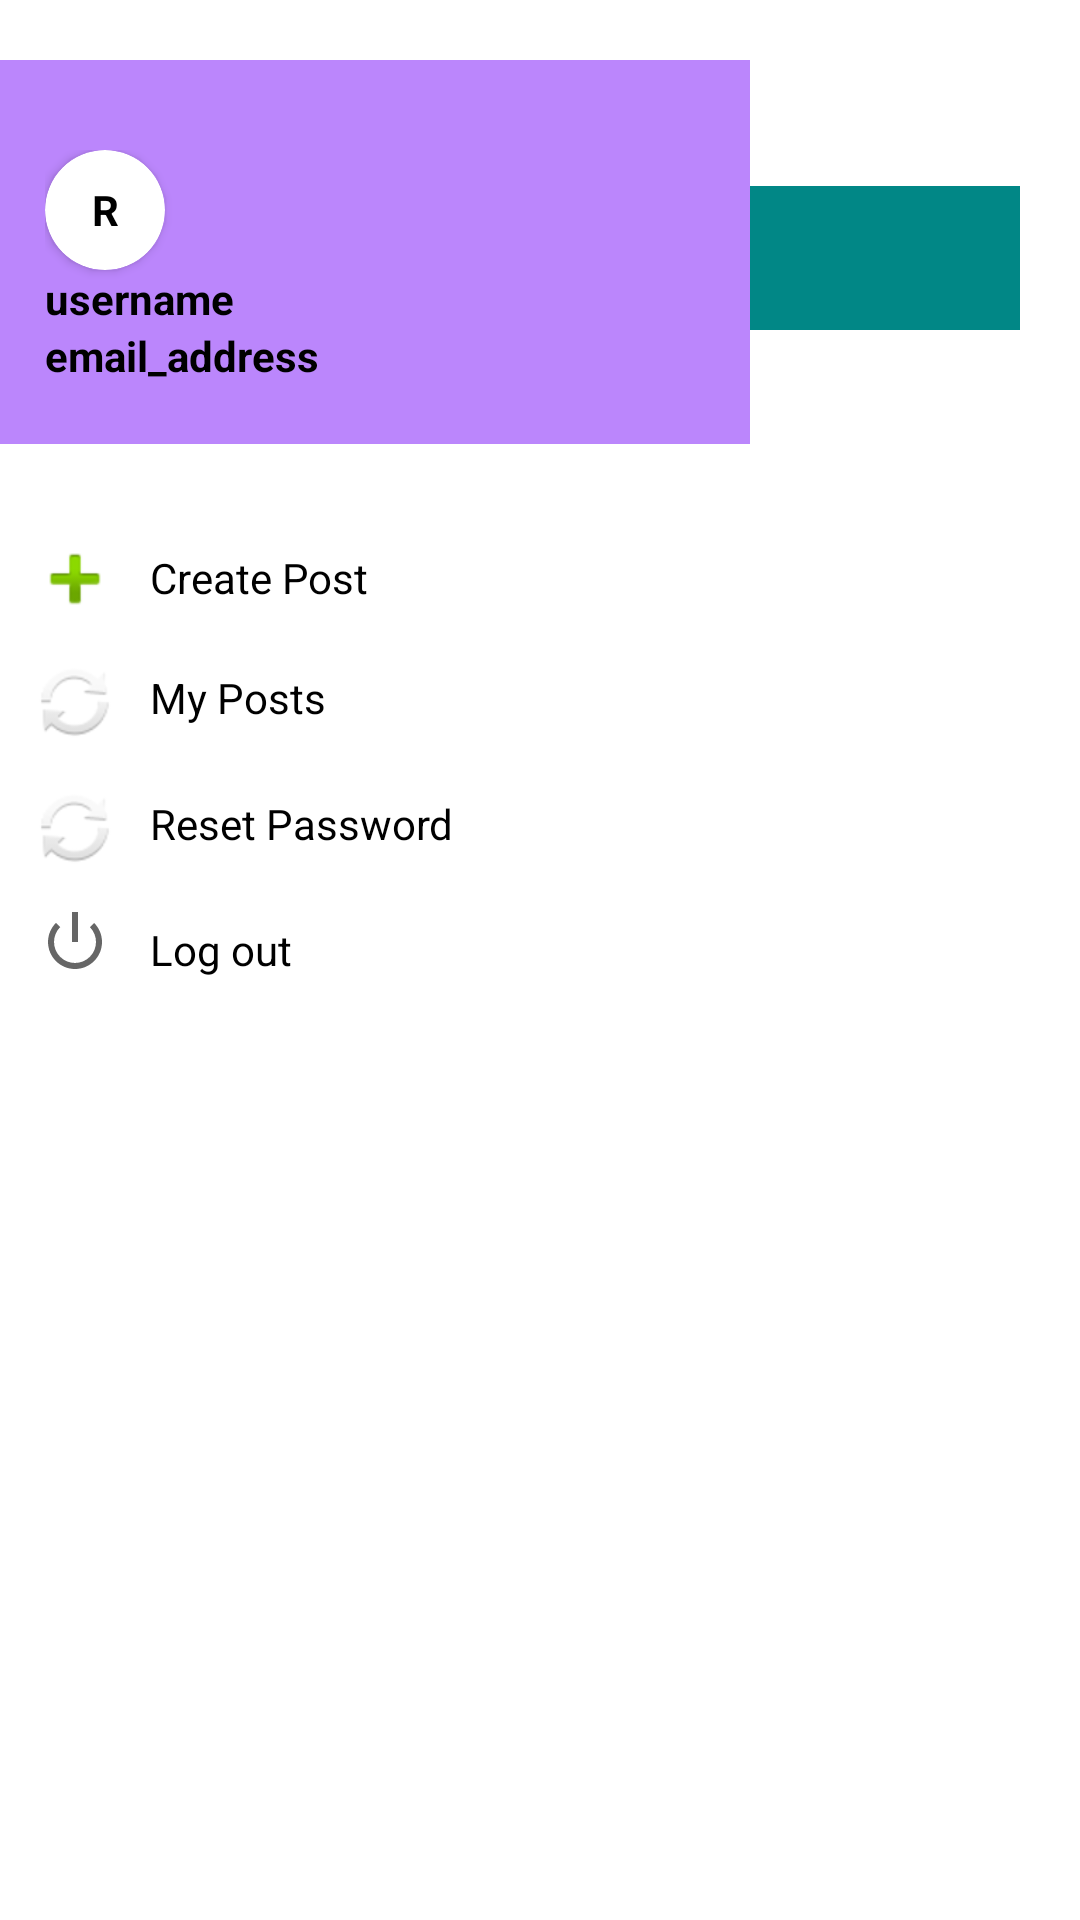

Screen size 1080w x 1920h. Icon name, then its box in pixels as {"left": x1, "top": y1, "right": x2, "bottom": y2}:
add: {"left": 49, "top": 553, "right": 101, "bottom": 605}
lock power off: {"left": 48, "top": 912, "right": 102, "bottom": 969}
popup sync: {"left": 41, "top": 676, "right": 108, "bottom": 735}, {"left": 41, "top": 802, "right": 108, "bottom": 861}
